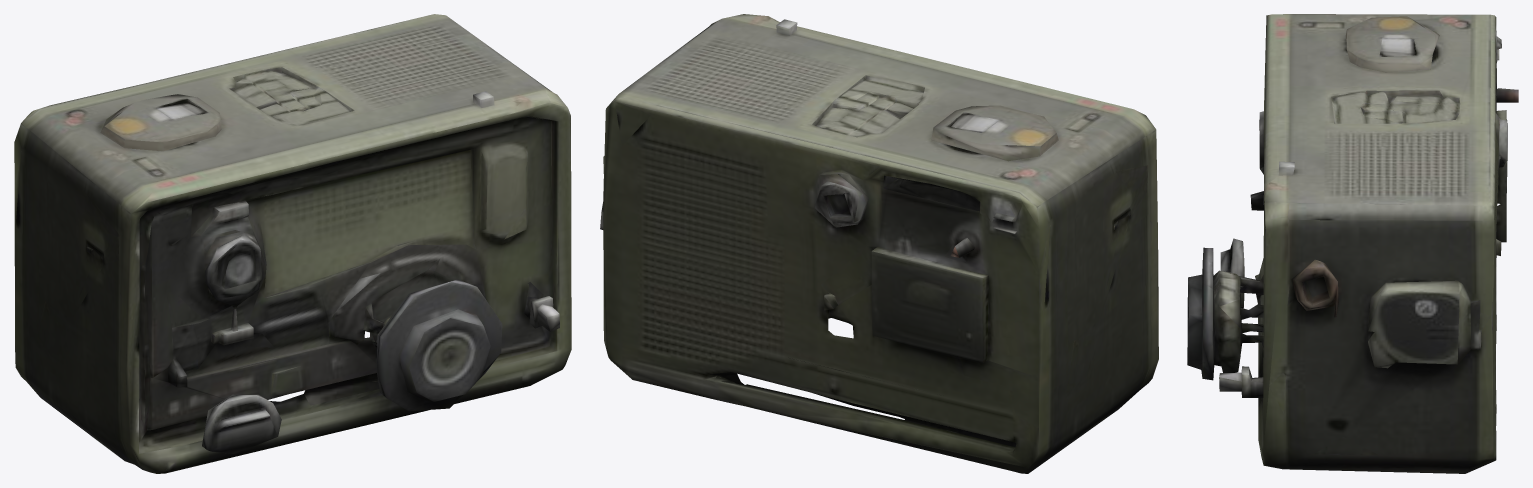
Rendered from radio.glb.
3 views of the same model, side by side, from view 1: azimuth 30°, elevation 25°; view 2: azimuth 150°, elevation 25°; view 3: azimuth 270°, elevation 25° (orthographic). The views are drawn at different scales.
Visible parts, largest first — view 1: radio; view 2: radio; view 3: radio.
Part boxes in pixels (bbox=[...]): radio: bbox=[14, 14, 571, 473]; radio: bbox=[600, 14, 1158, 473]; radio: bbox=[1187, 14, 1518, 473].
Bounding box in the file's own units: 0.9997 × 0.6201 × 0.6559.
Materials: 1 (1 with a texture image).
